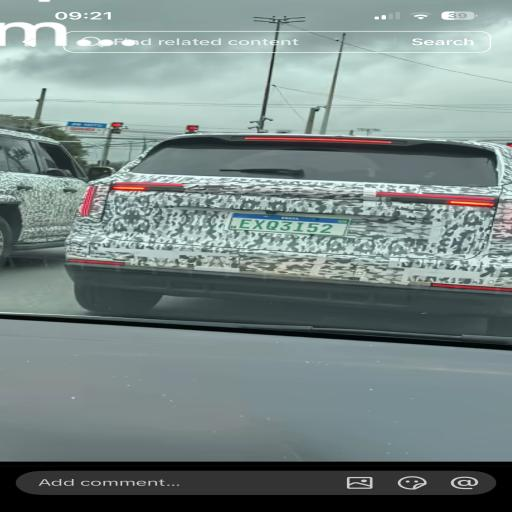detec-o-placas: (229, 198, 384, 252)
